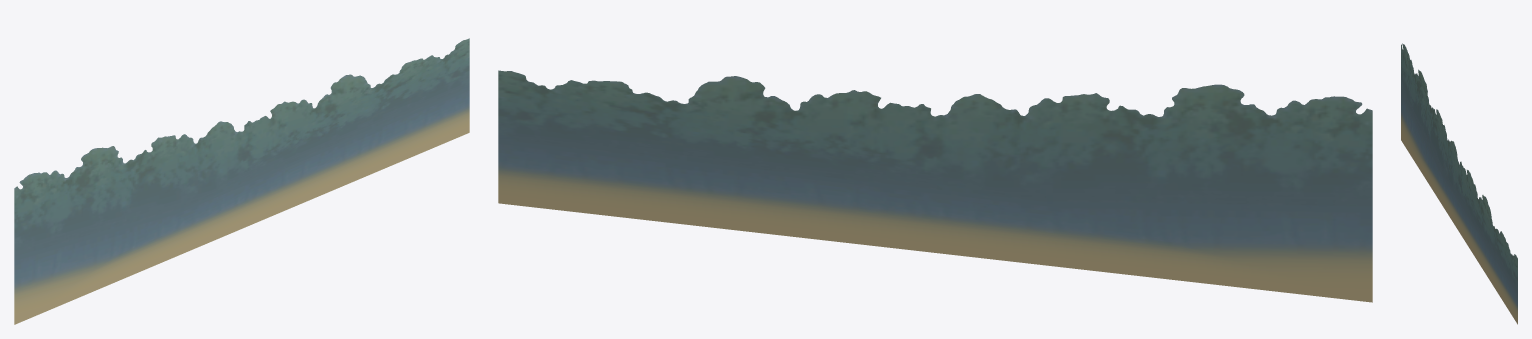
Rendered from sucai_25.FBX.
The picture shows the model from 3 angles, left to right: view 1: azimuth 30°, elevation 25°; view 2: azimuth 150°, elevation 25°; view 3: azimuth 270°, elevation 25°; orthographic projection. The views are drawn at different scales.
Visible parts, largest first — view 1: sucai_25; view 2: sucai_25; view 3: sucai_25.
Part boxes in pixels (x1,y1,x2,y2): sucai_25: (14,38,469,324); sucai_25: (498,70,1372,302); sucai_25: (1401,43,1517,324).
Size of the model in its own units: 83.19 by 22.25 by 26.49.
